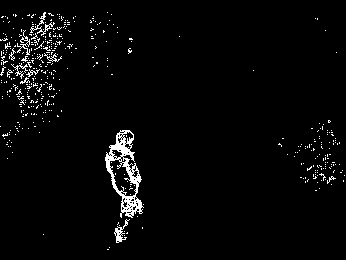person: (105, 126, 146, 248)
